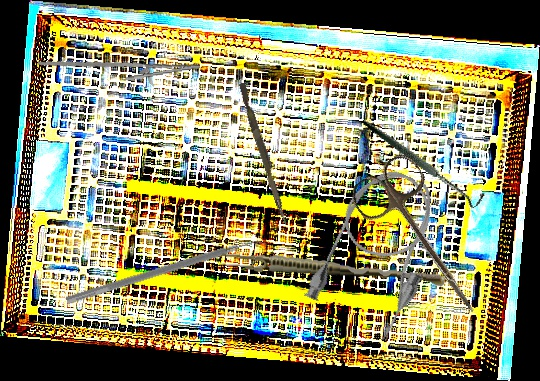Cannula: (299, 157, 459, 345)
Hook Surgical: (360, 86, 489, 236)
Iris Scissors: (345, 149, 506, 331)
Needle Holder: (37, 43, 202, 99)
Pusher: (235, 82, 293, 226)
Spatula Surgical: (65, 232, 269, 313)
Tissue Forceps: (219, 251, 447, 287)
